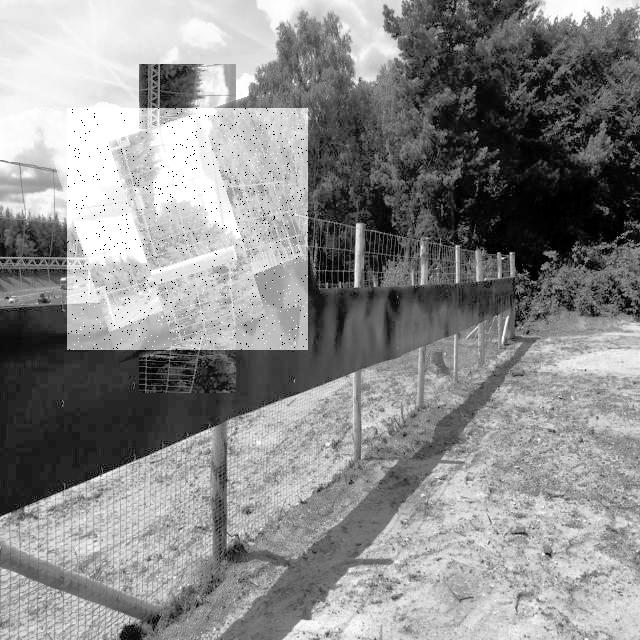fences: (67, 108, 308, 350)
